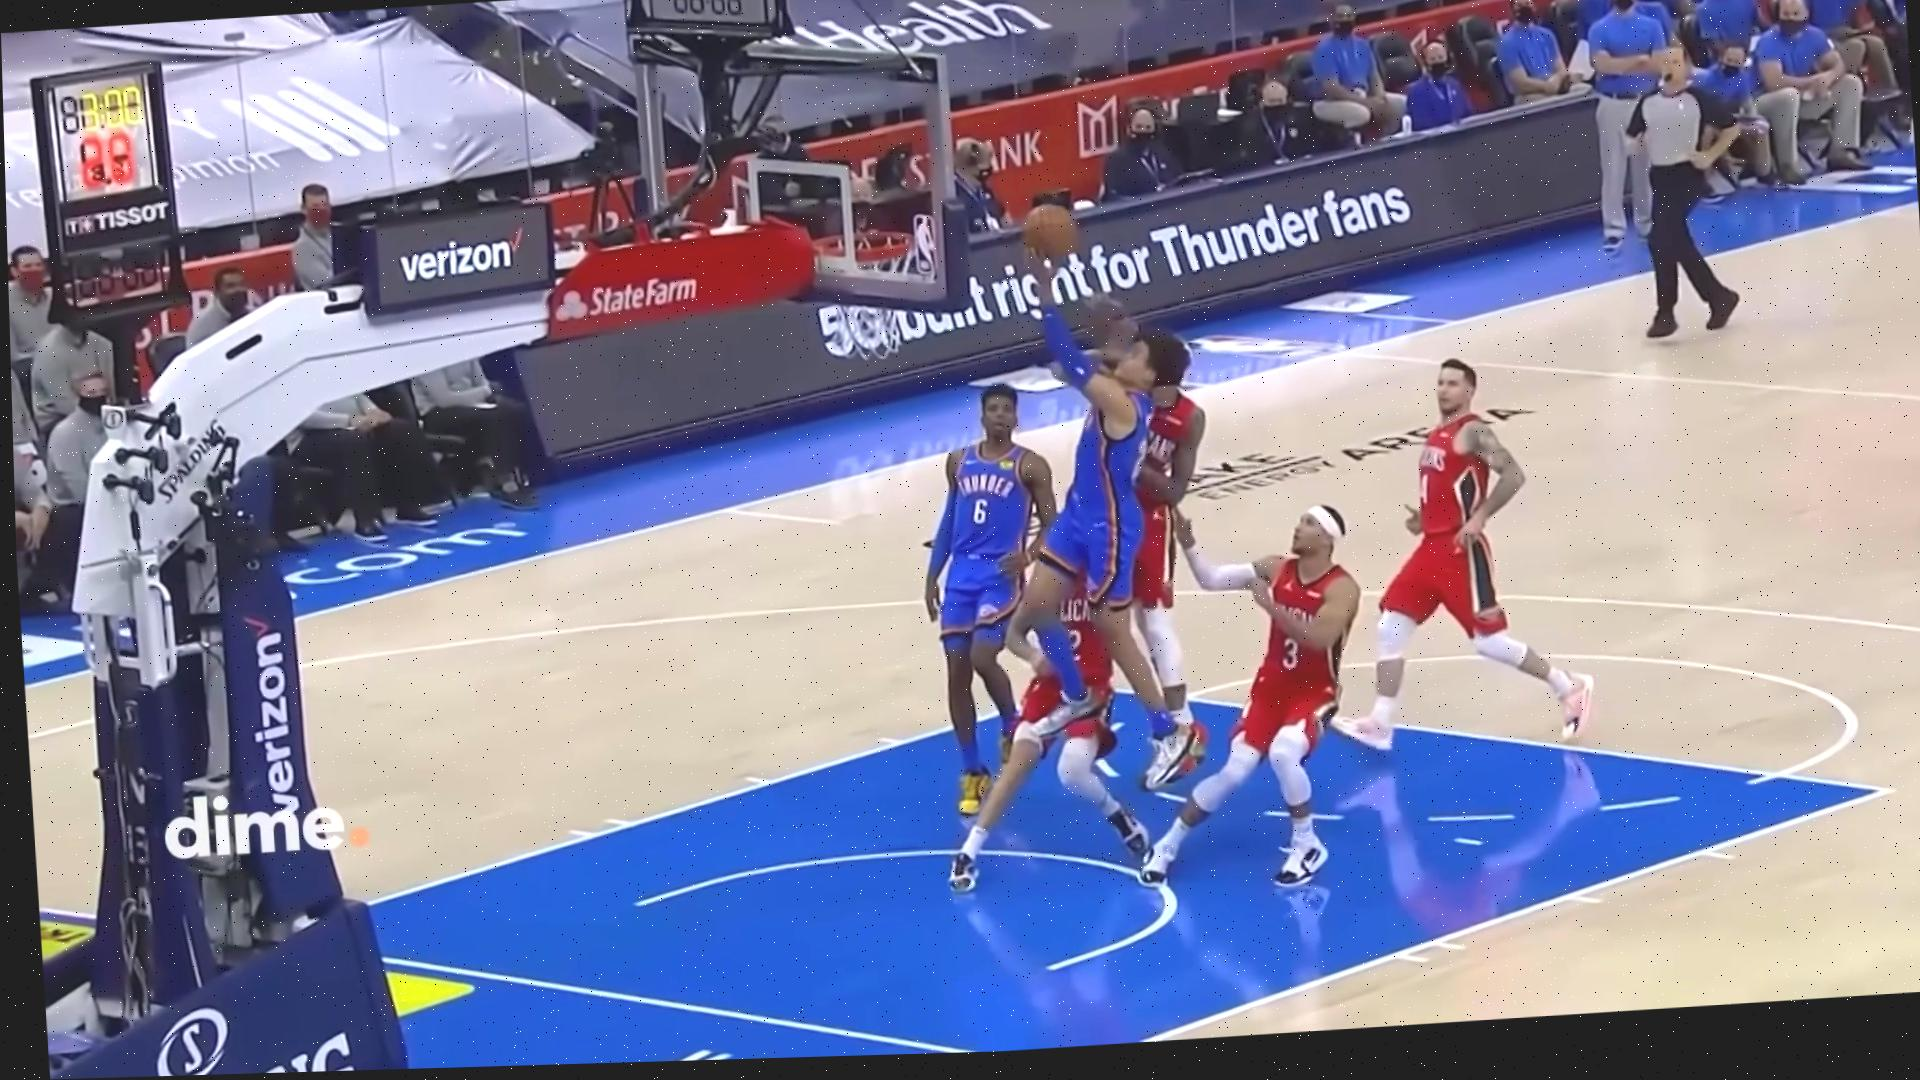no_foul: (1000, 219, 1225, 849)
